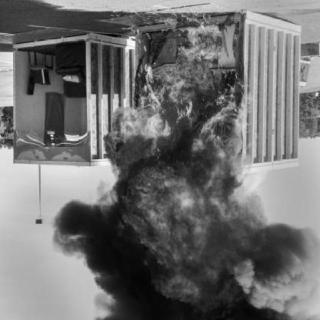Fire: (104, 6, 268, 316)
Smoke: (48, 202, 144, 298)
